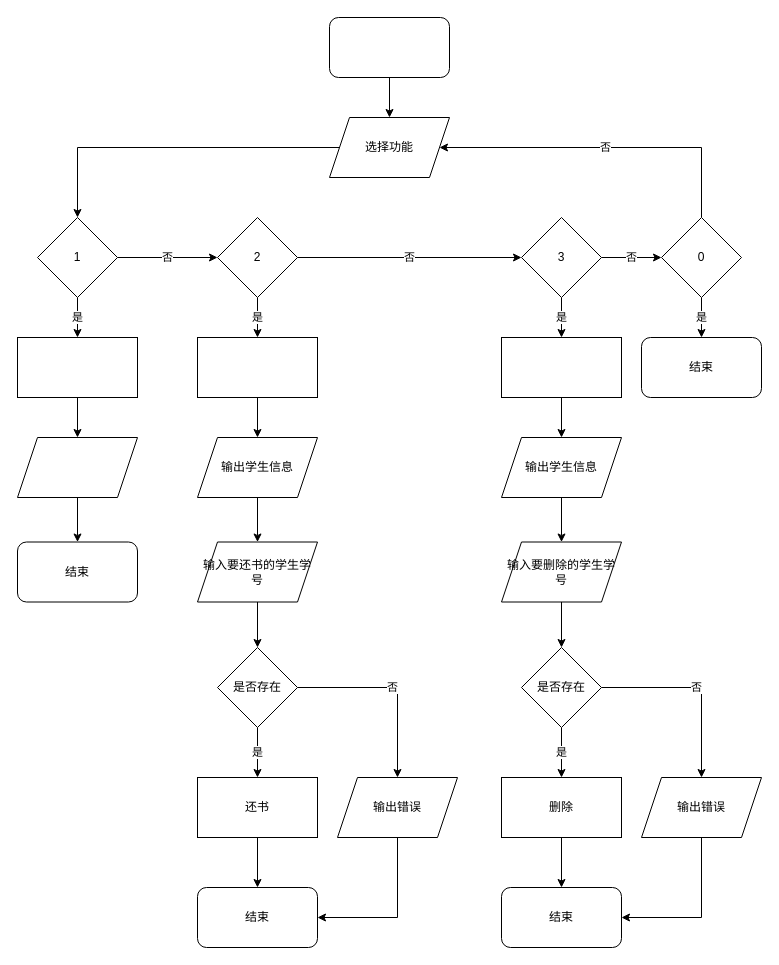
The diagram is 779 pixels wide and 965 high, and some of its shapes have lost their labels. The box of each missing label's shape, as (x1, y1, x2, y2) in pixels:
删除学生并还书: (500, 336, 622, 398)
开始: (328, 16, 450, 78)
强制学生还书: (196, 336, 318, 398)
查看学生名单: (16, 336, 138, 398)
输出所有学生信息: (16, 436, 138, 498)
